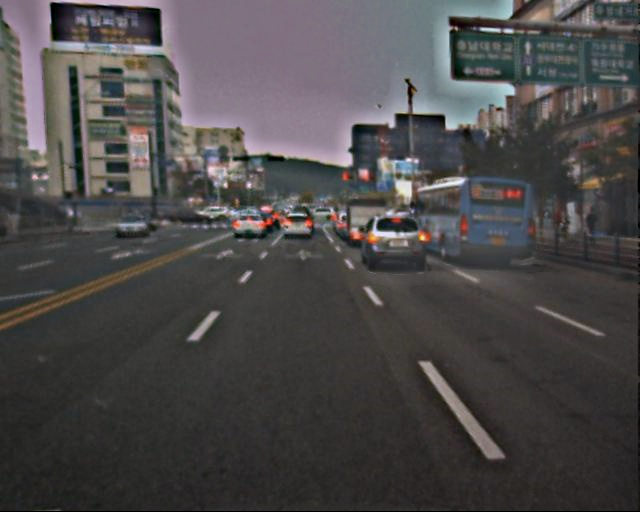person: (582, 206, 600, 249), (552, 209, 568, 237)
